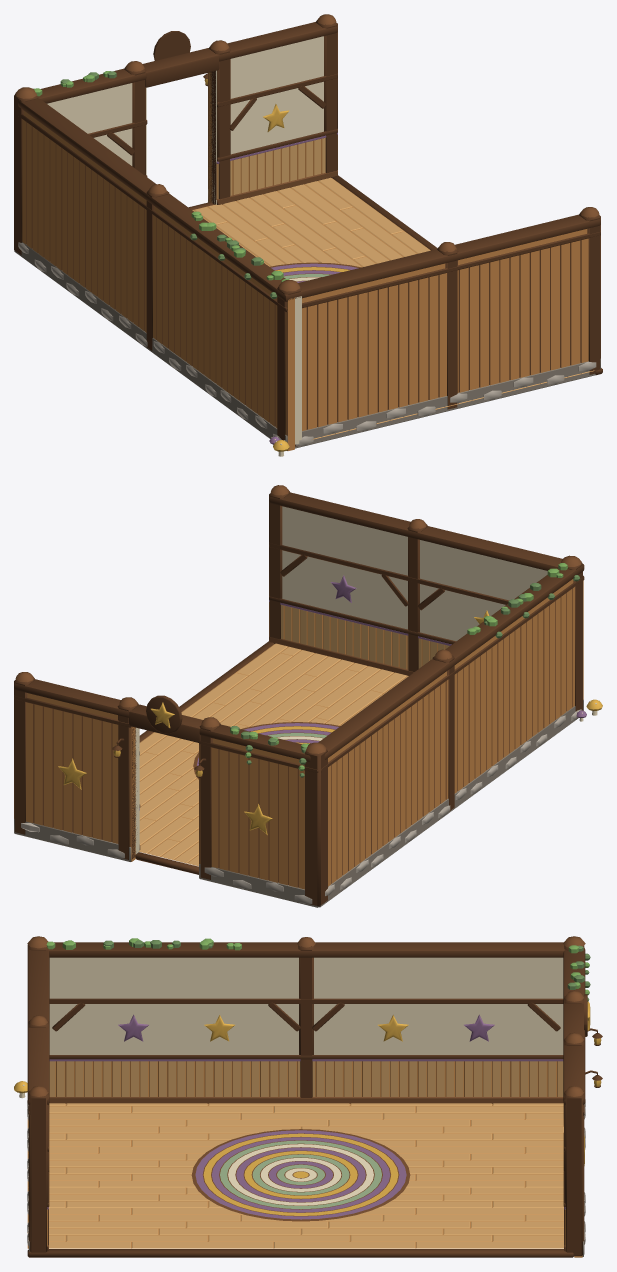
Rendered from ShopZoneSalaJuegos.fbx.
The picture shows the model from 3 angles, top to bottom: view 1: azimuth 30°, elevation 25°; view 2: azimuth 150°, elevation 25°; view 3: azimuth 270°, elevation 25°; orthographic projection. The views are drawn at different scales.
Parts seen in each view (by area): view 1: ShopZoneSalaJuegos; view 2: ShopZoneSalaJuegos; view 3: ShopZoneSalaJuegos.
Boxes of the visible parts, <box> form: ShopZoneSalaJuegos: <box>14,14,602,456</box>; ShopZoneSalaJuegos: <box>14,485,602,907</box>; ShopZoneSalaJuegos: <box>14,936,602,1257</box>.
Bounding box in the file's own units: 7.15 × 3.71 × 10.78.
